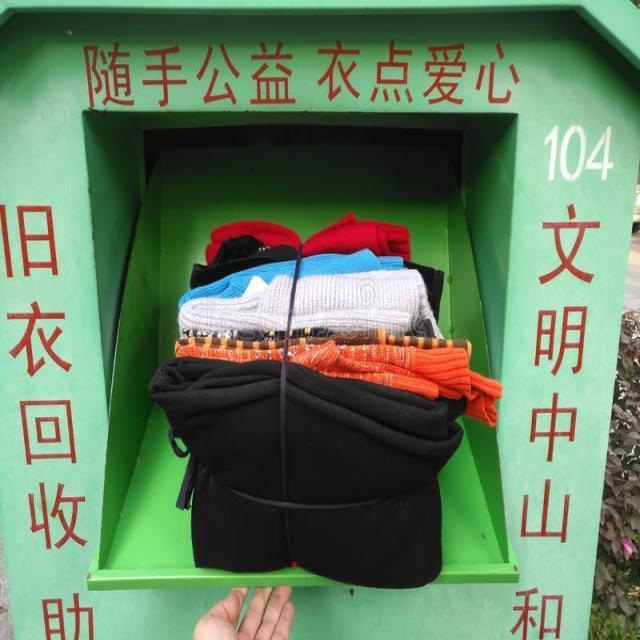clothes: (171, 224, 476, 574)
